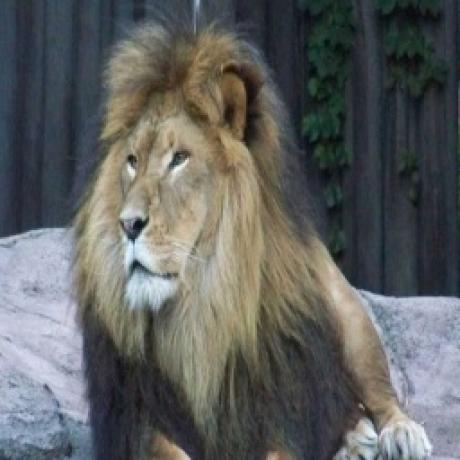Lion: (68, 12, 433, 460)
